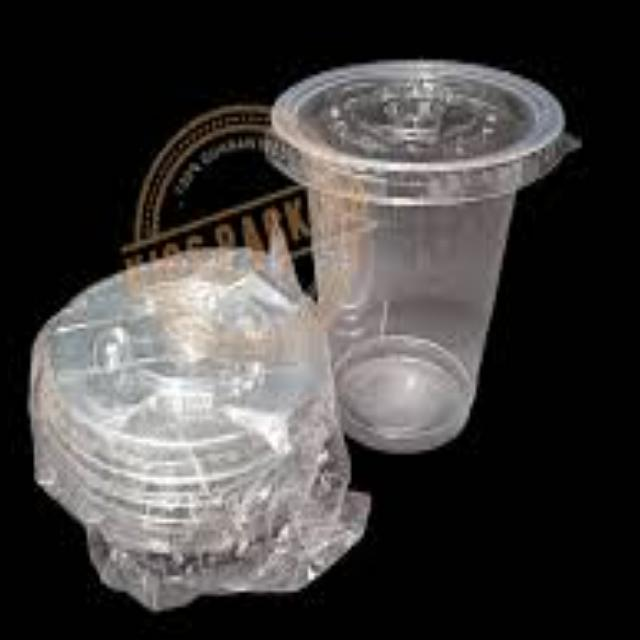GelasPlastik: (262, 55, 582, 455)
